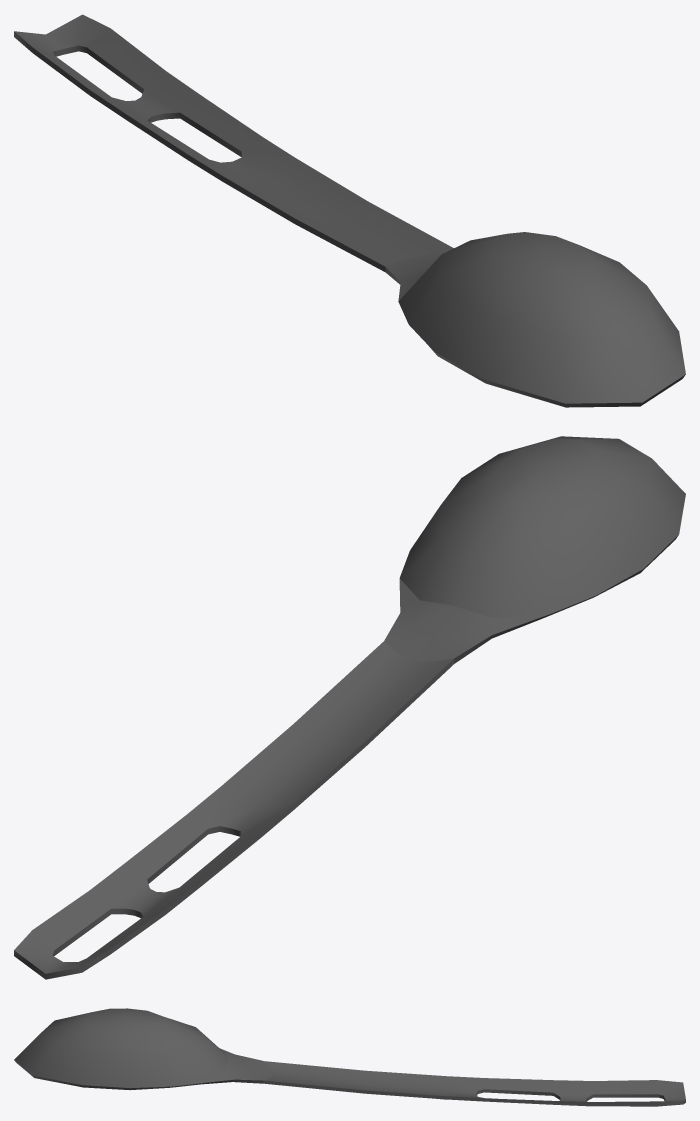
Rendered from nt_2020_art_spoon_01_LOD1.obj.
The picture shows the model from 3 angles, top to bottom: view 1: azimuth 30°, elevation 25°; view 2: azimuth 150°, elevation 25°; view 3: azimuth 270°, elevation 25°; orthographic projection. The views are drawn at different scales.
Parts seen in each view (by area): view 1: nt_2020_metal_chrome; view 2: nt_2020_metal_chrome; view 3: nt_2020_metal_chrome.
Boxes of the visible parts, left/top/right/bottom form: nt_2020_metal_chrome: left=14, top=14, right=685, bottom=407; nt_2020_metal_chrome: left=14, top=436, right=685, bottom=979; nt_2020_metal_chrome: left=14, top=1008, right=685, bottom=1106.
Bounding box in the file's own units: 4.59 × 3.25 × 22.73.
